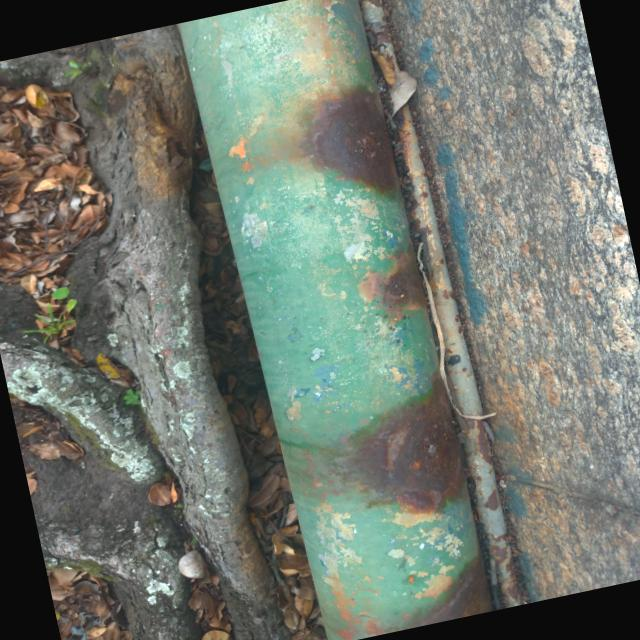gas: (182, 0, 497, 640)
